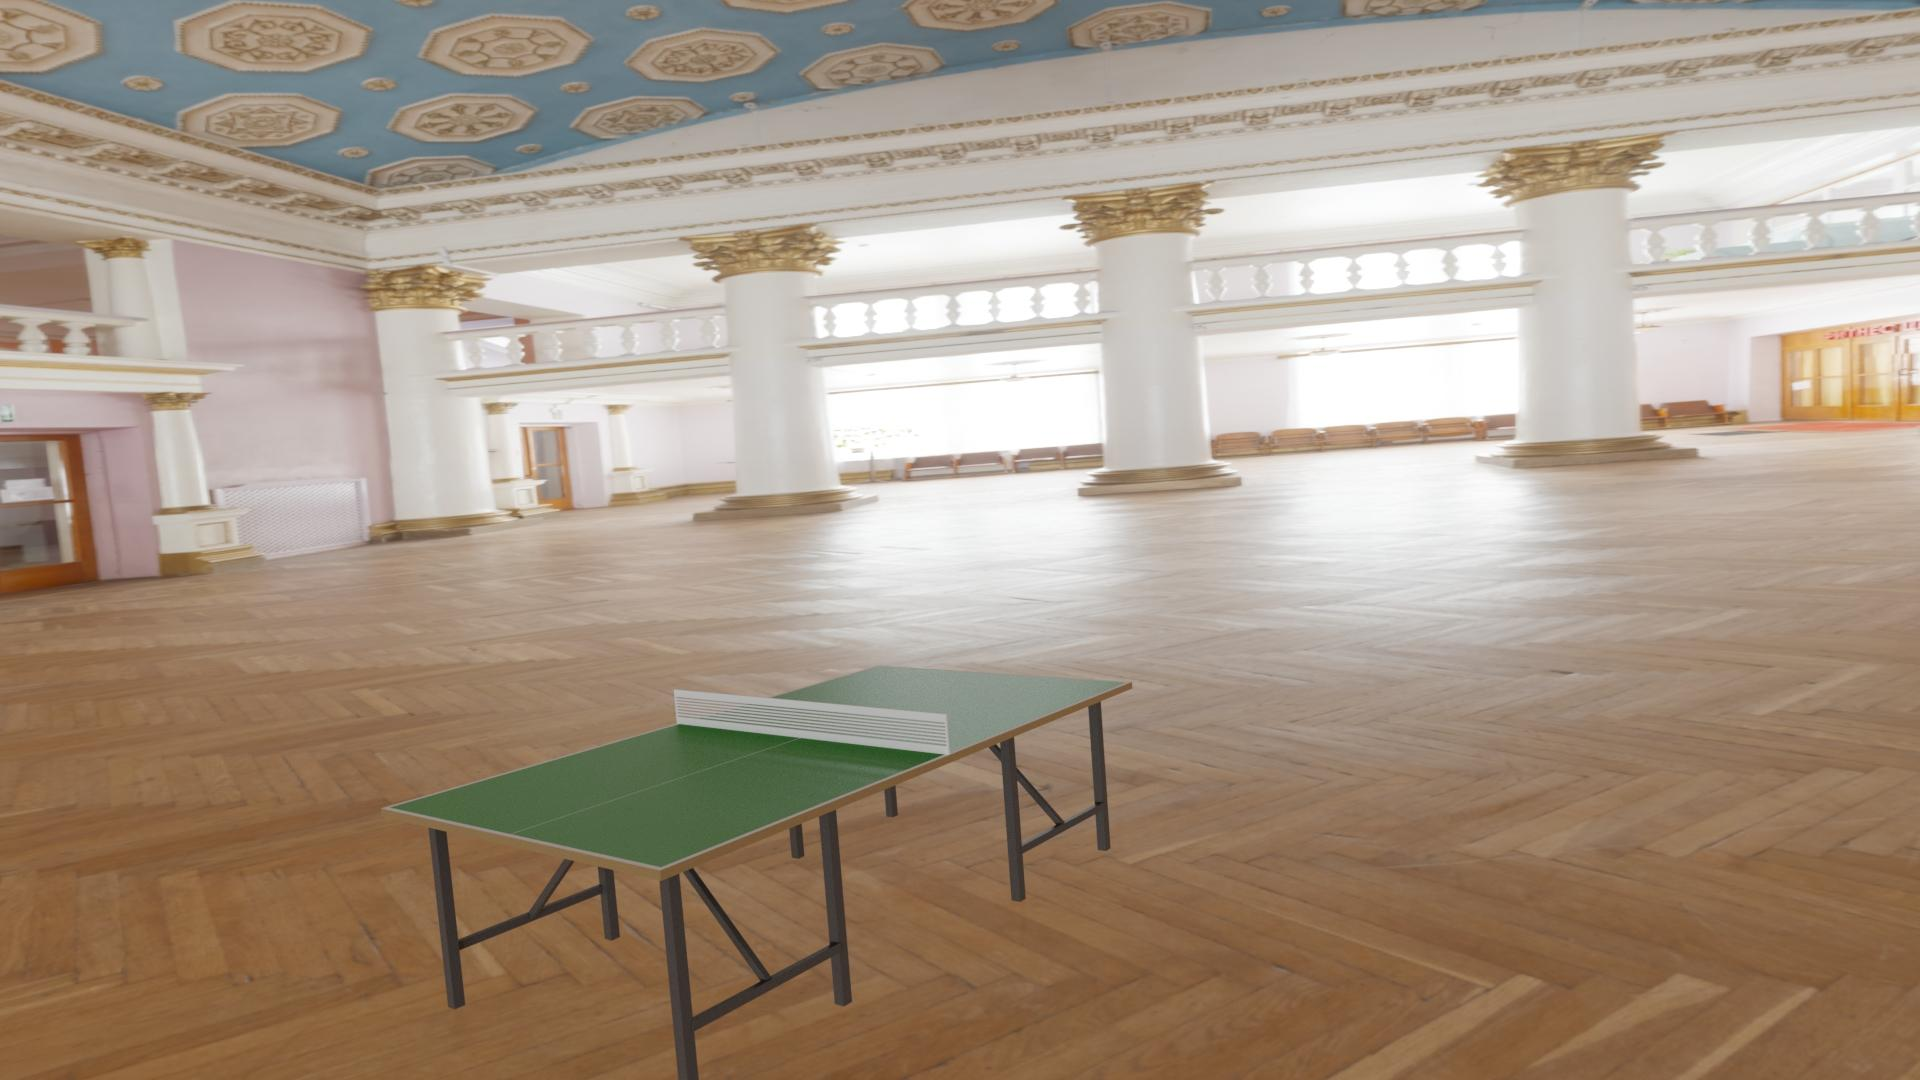table: (389, 666, 1126, 868)
